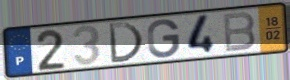2: (34, 27, 67, 73)
3: (71, 24, 105, 68)
4: (185, 12, 220, 57)
B: (221, 10, 258, 54)
D: (106, 21, 146, 65)
G: (146, 18, 182, 60)
